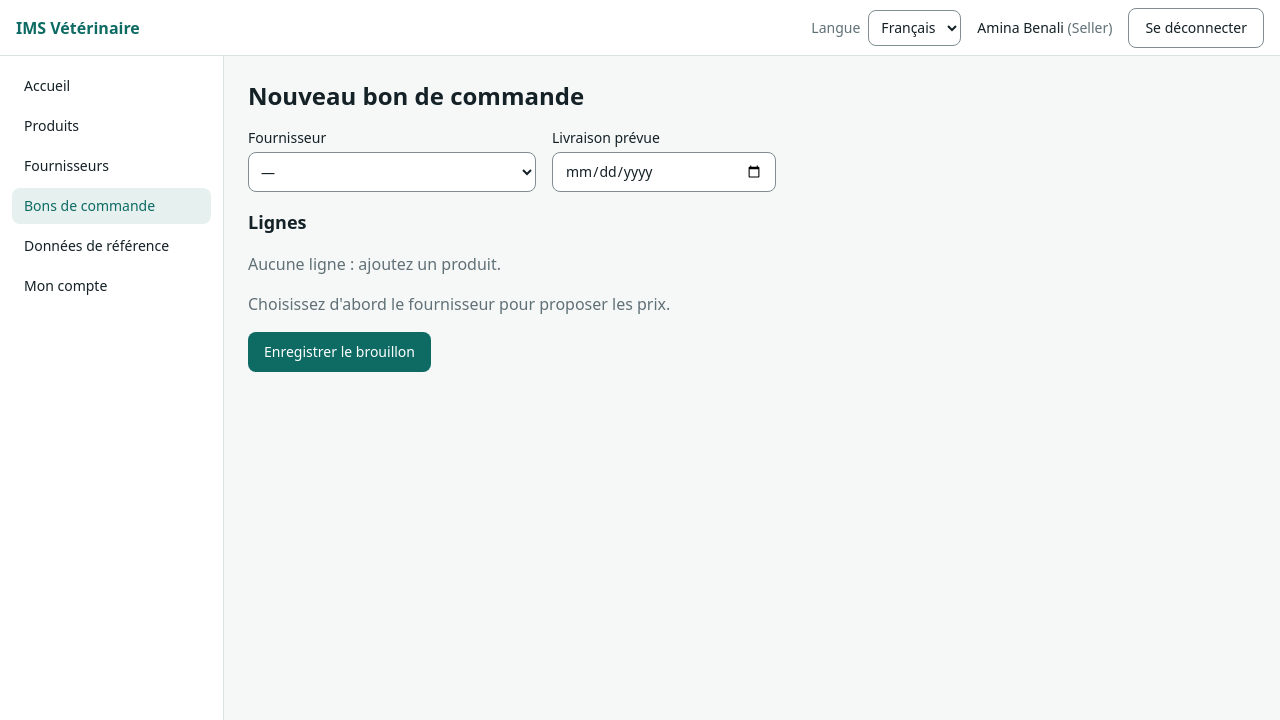
it: purchase orders (frontend.md §4.5) › prefills the price of a new line and sends no amount
This screenshot has width=1280, height=720.
Select "Biopharm" in the dropdown labelled "Fournisseur". click: (392, 172)
box: x1=248 y1=152 x2=536 y2=192
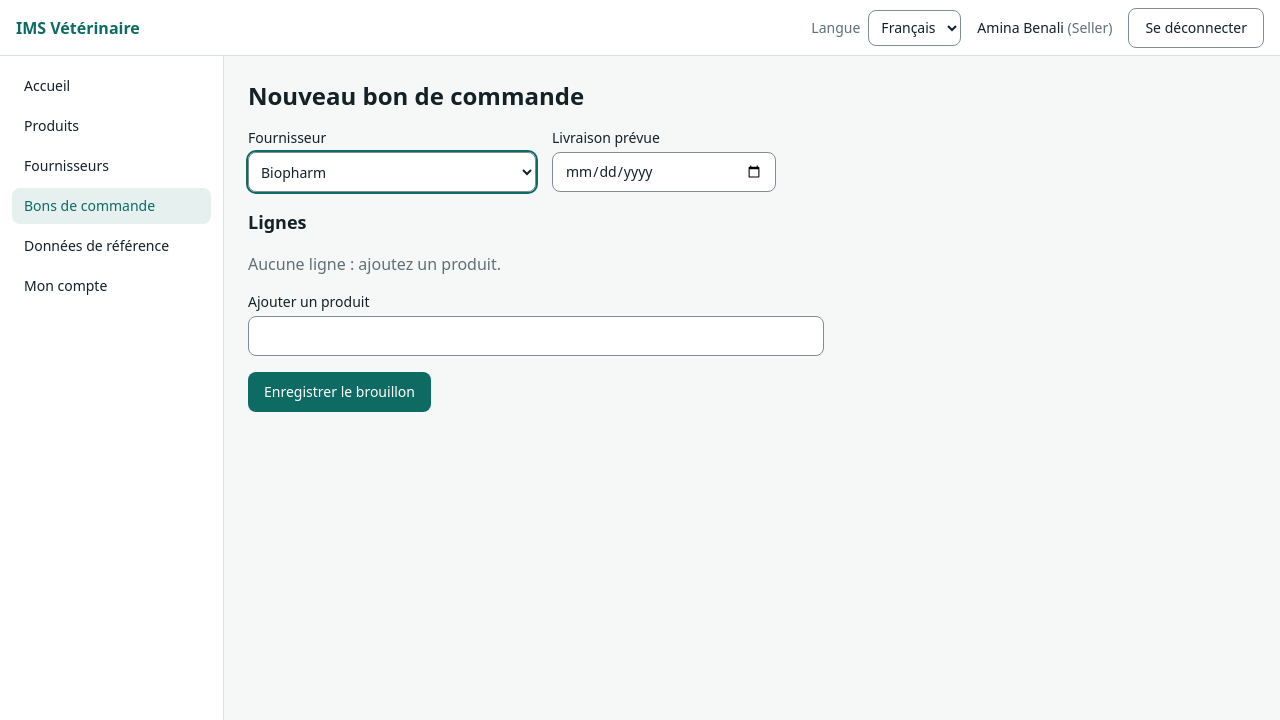
Type "amox" into the search field labelled "Ajouter un produit". click: (536, 336)
box: x1=248 y1=316 x2=824 y2=356
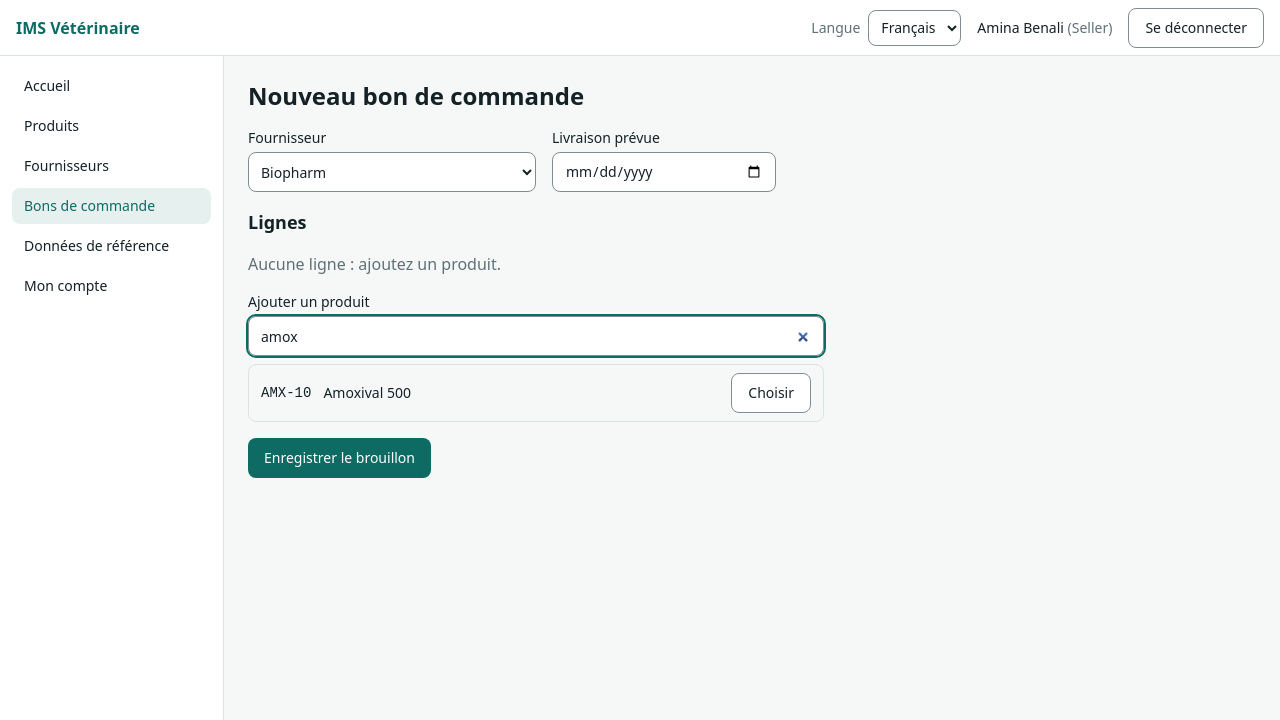
Click the button with aria-label "Choisir Amoxival 500". click: (771, 393)
box: x1=731 y1=373 x2=811 y2=413
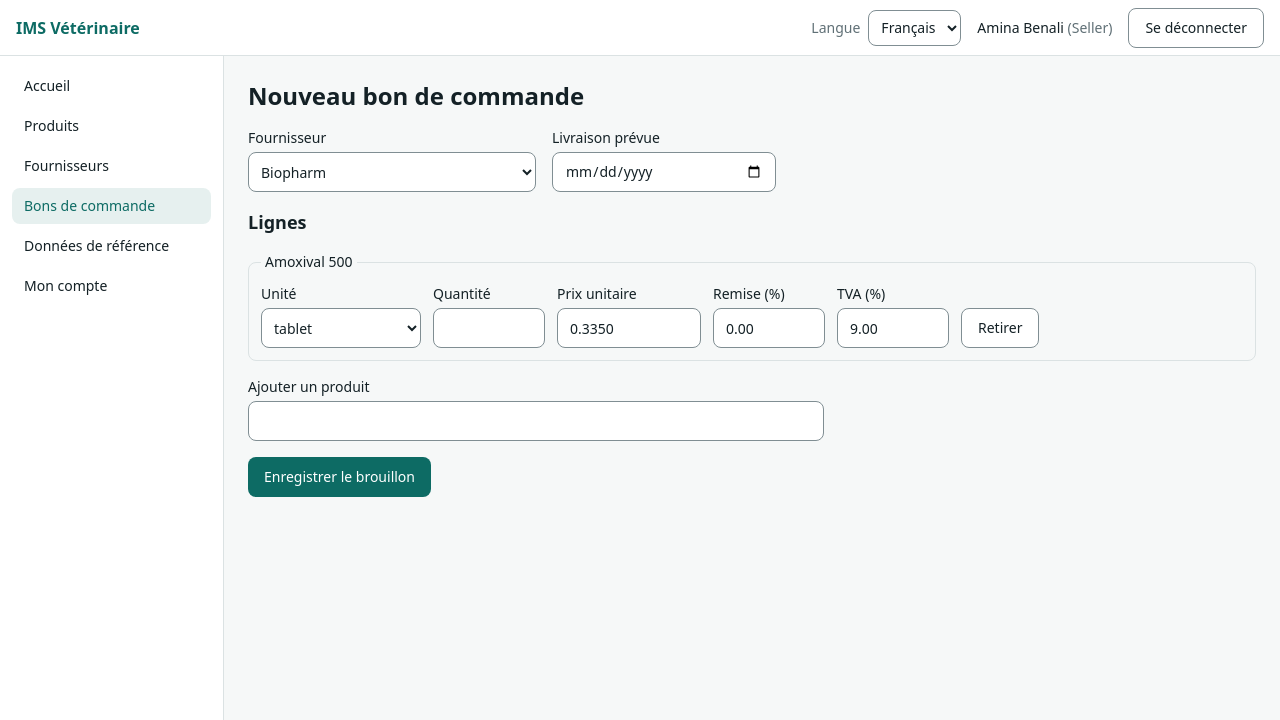
Now the field labelled "Prix unitaire" holds "0.3350", box x1=557 y1=308 x2=701 y2=348
Type "10" into the field labelled "Quantité". click: (489, 328)
box: x1=433 y1=308 x2=545 y2=348
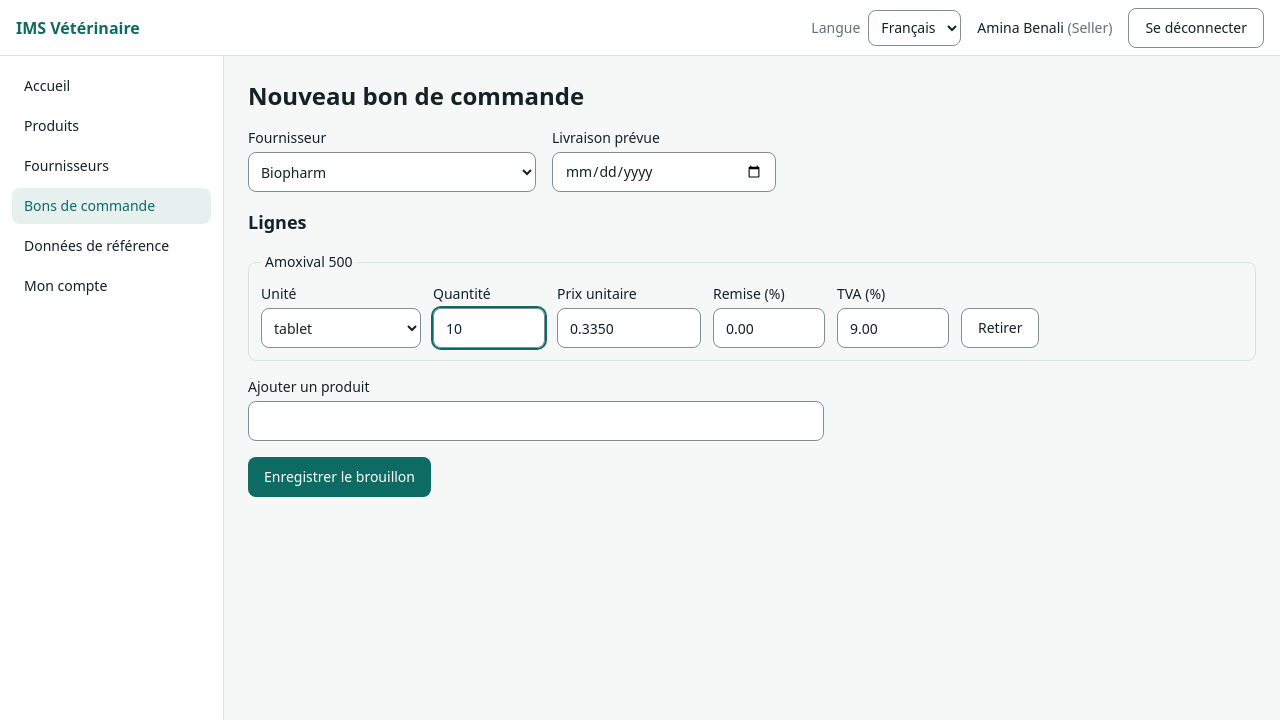
Click the button "Enregistrer le brouillon". click: (340, 477)
box: x1=248 y1=457 x2=431 y2=497
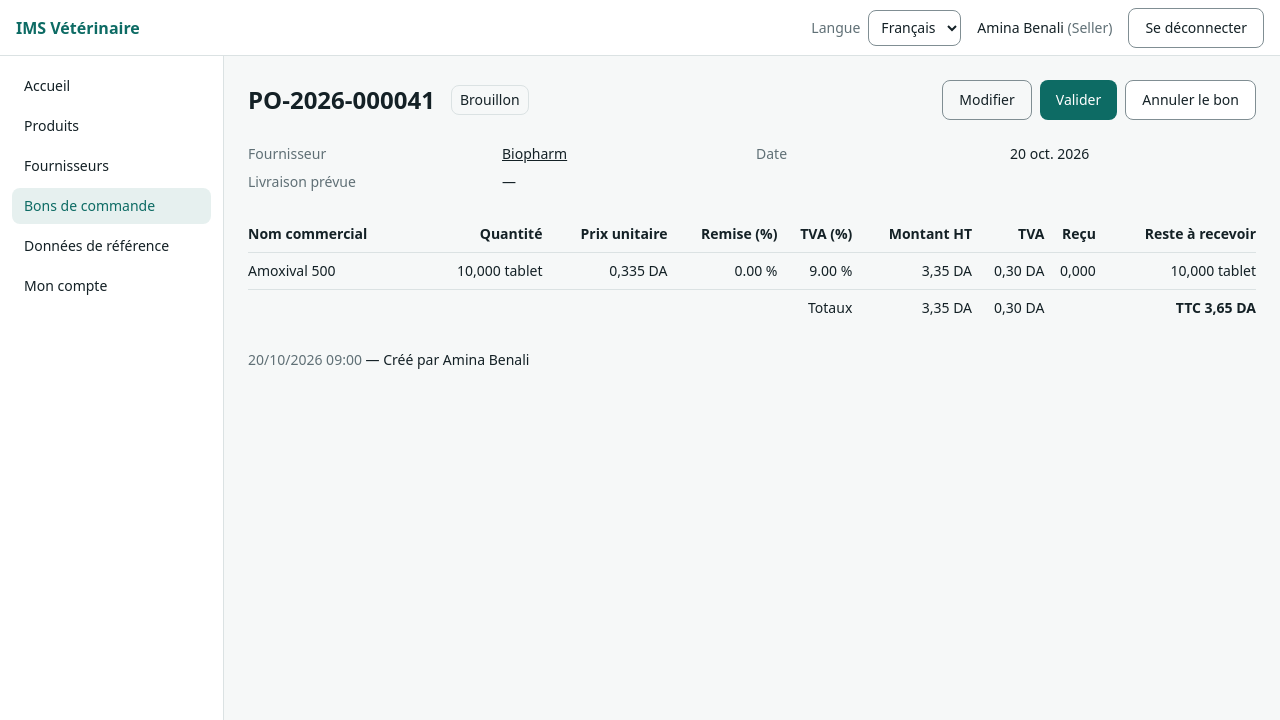
Now the text "TTC 3,65 DA" is shown, box x1=1044 y1=290 x2=1256 y2=326
